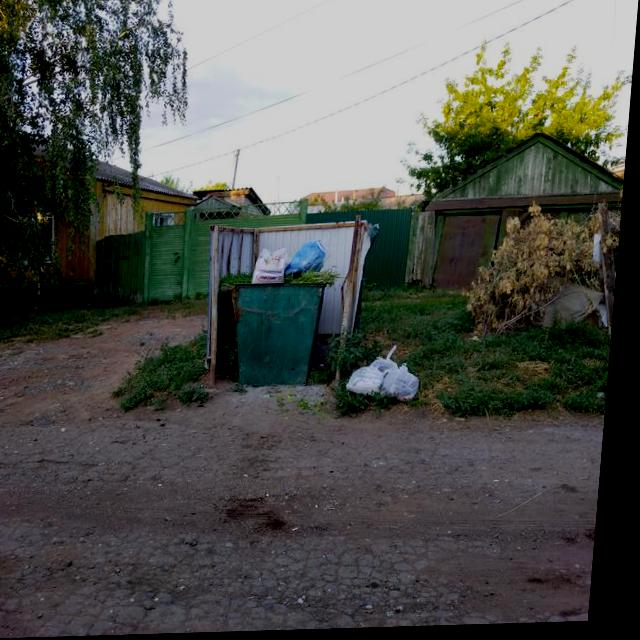Trash_Can_Full: (222, 240, 345, 389)
